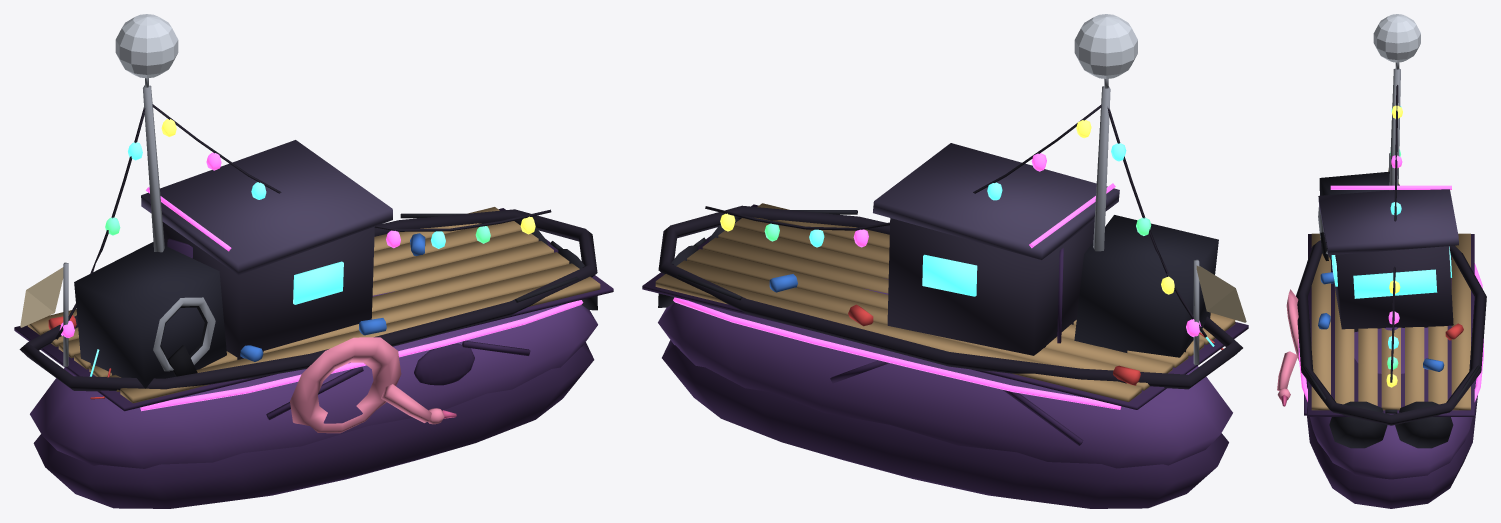
Rendered from after.glb.
3 views of the same model, side by side, from view 1: azimuth 30°, elevation 25°; view 2: azimuth 150°, elevation 25°; view 3: azimuth 270°, elevation 25° (orthographic). The views are drawn at different scales.
Parts seen in each view (by area): view 1: after_barco; view 2: after_barco; view 3: after_barco.
Boxes of the visible parts, <box> form: after_barco: <box>14,14,613,508</box>; after_barco: <box>642,14,1248,508</box>; after_barco: <box>1277,14,1486,508</box>.
Size of the model in its own units: 4.12 by 3.31 by 1.73.
